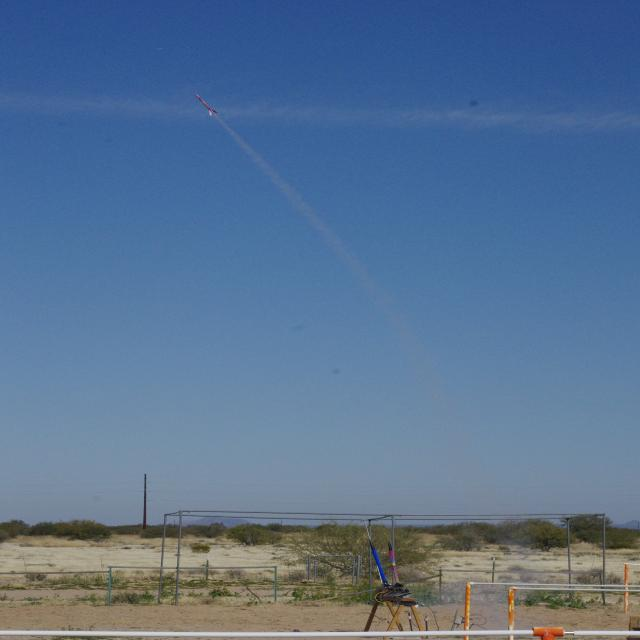Rocket: (369, 539, 393, 588), (388, 541, 404, 588), (194, 93, 218, 116)
